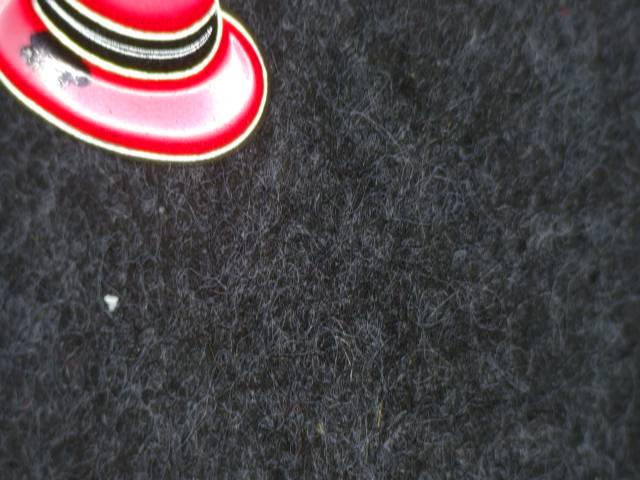Red-Hat: (0, 0, 283, 197)
Scratch: (11, 17, 101, 105)
